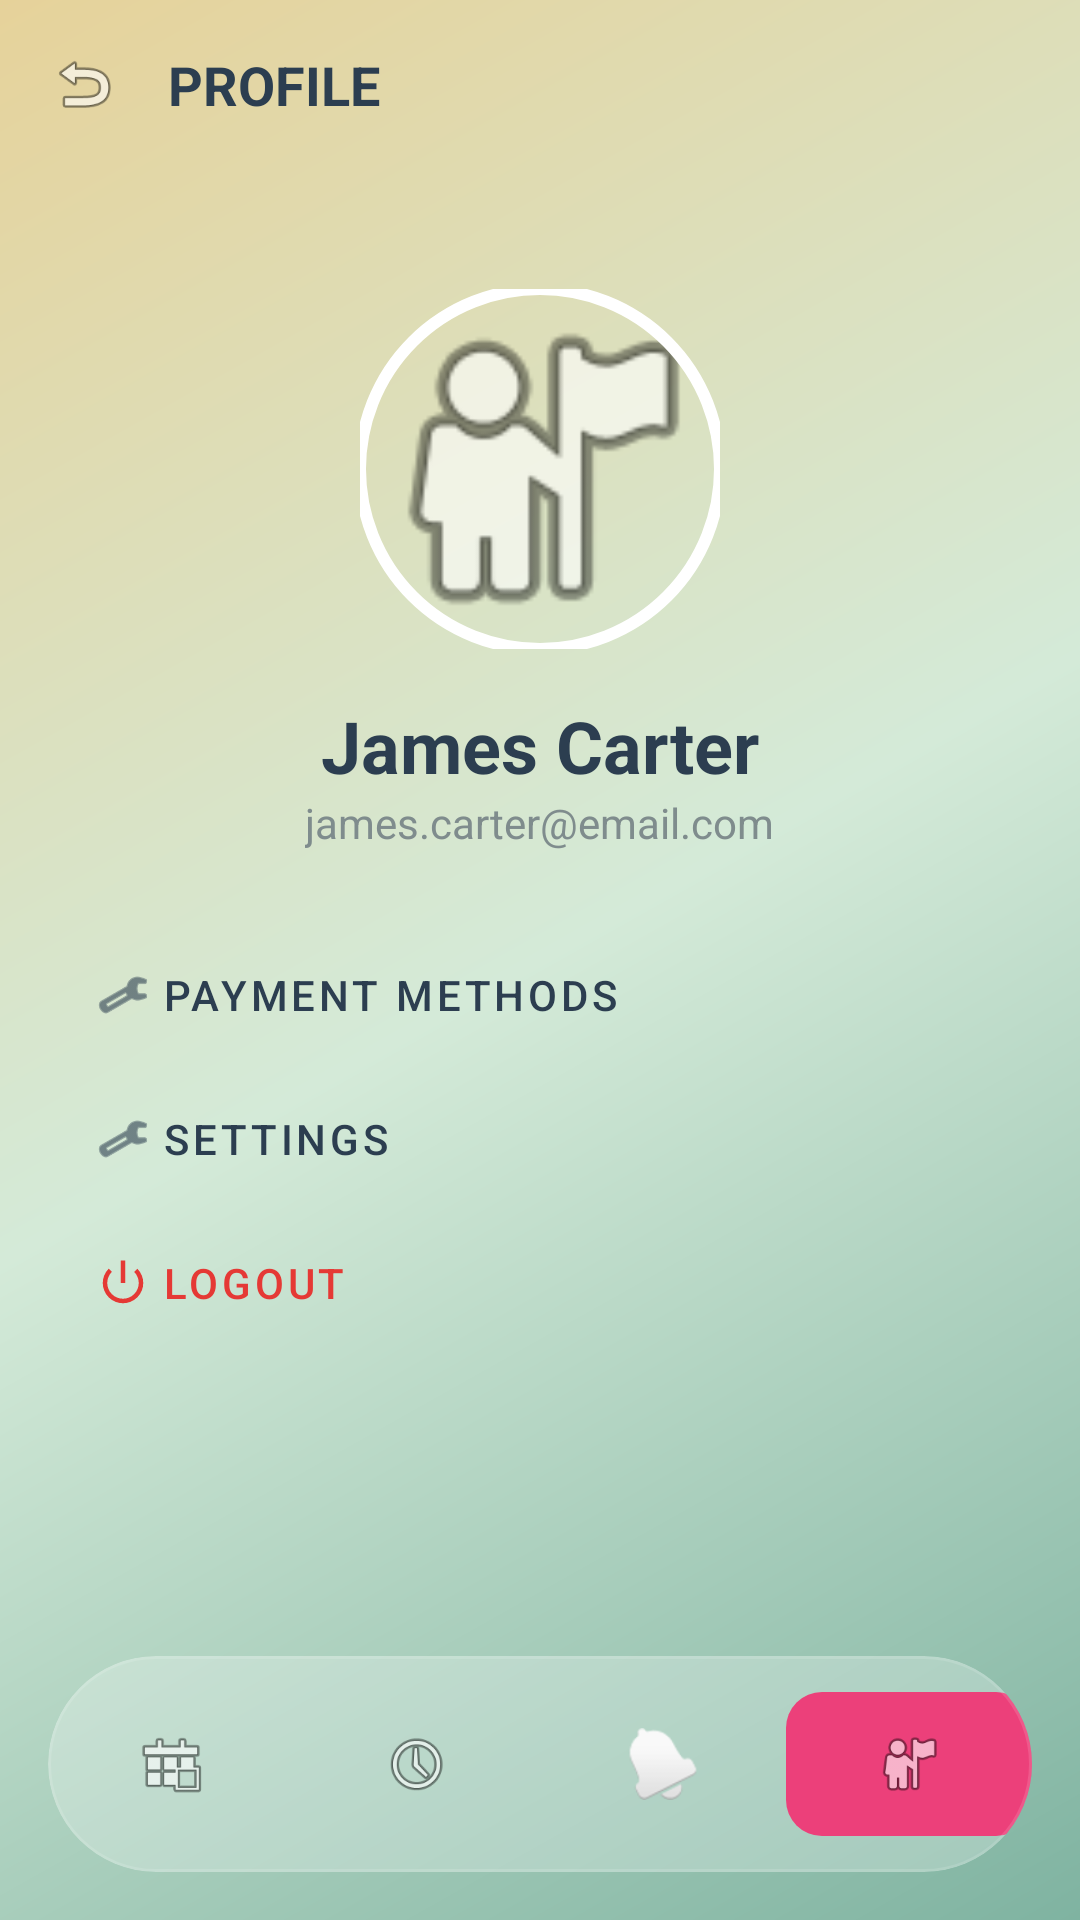

Where to tap for icons on this 1080 x 1920 app screen, as [x,y]:
myplaces: [540,469], [909,1764]
popup reminder: [663,1764]
recent history: [416,1764]
revert: [85,84]
today: [171,1765]
